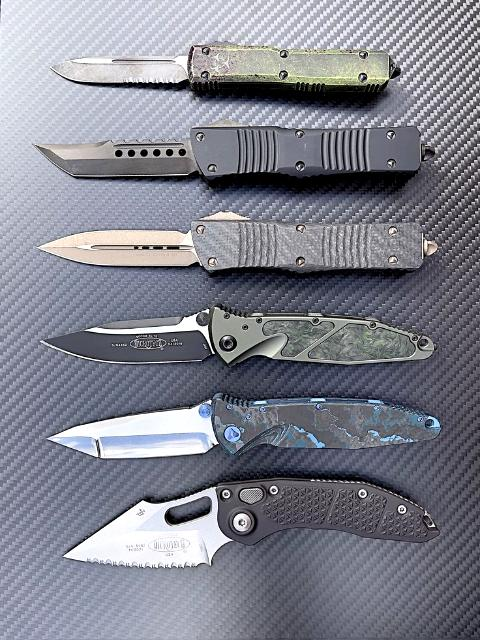pocket-knife: (58, 473, 450, 573), (31, 114, 438, 192), (45, 386, 447, 462), (38, 302, 442, 373), (36, 210, 440, 276), (46, 36, 407, 96)
